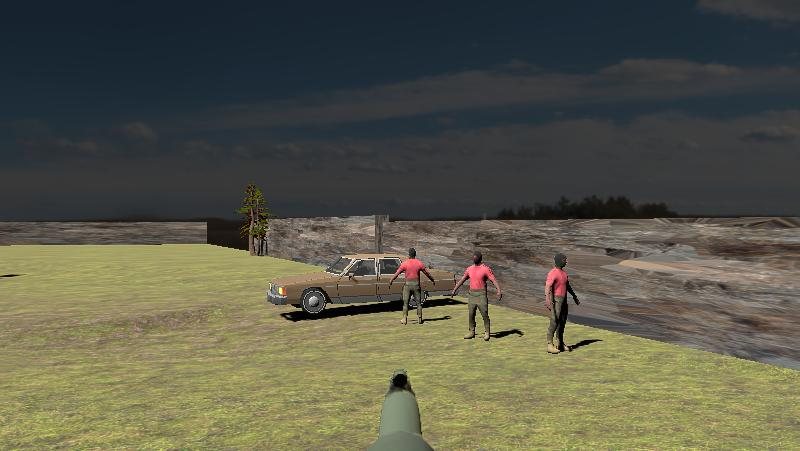Human: (452, 250, 501, 341), (546, 253, 580, 355), (392, 247, 435, 325)
car: (266, 254, 448, 318)
